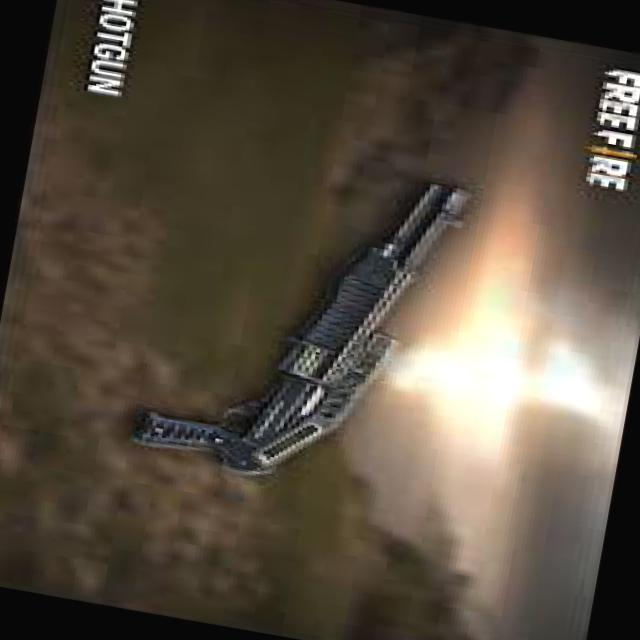long weapon: (103, 113, 558, 523)
